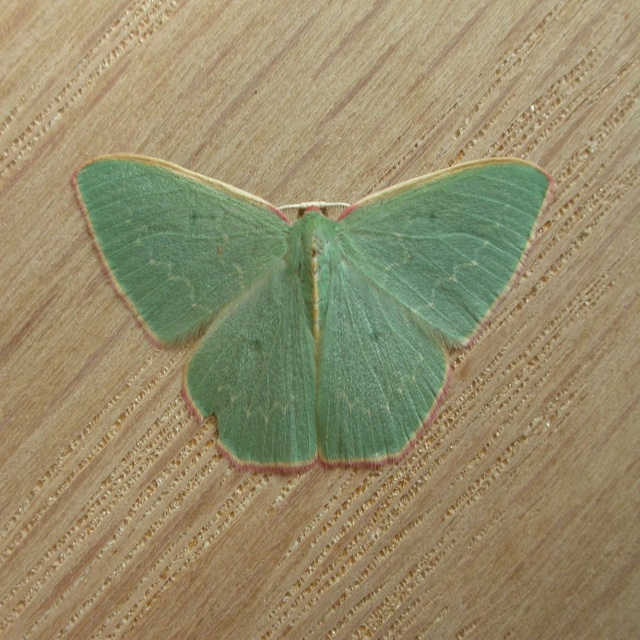Butterfly: (61, 146, 562, 469)
